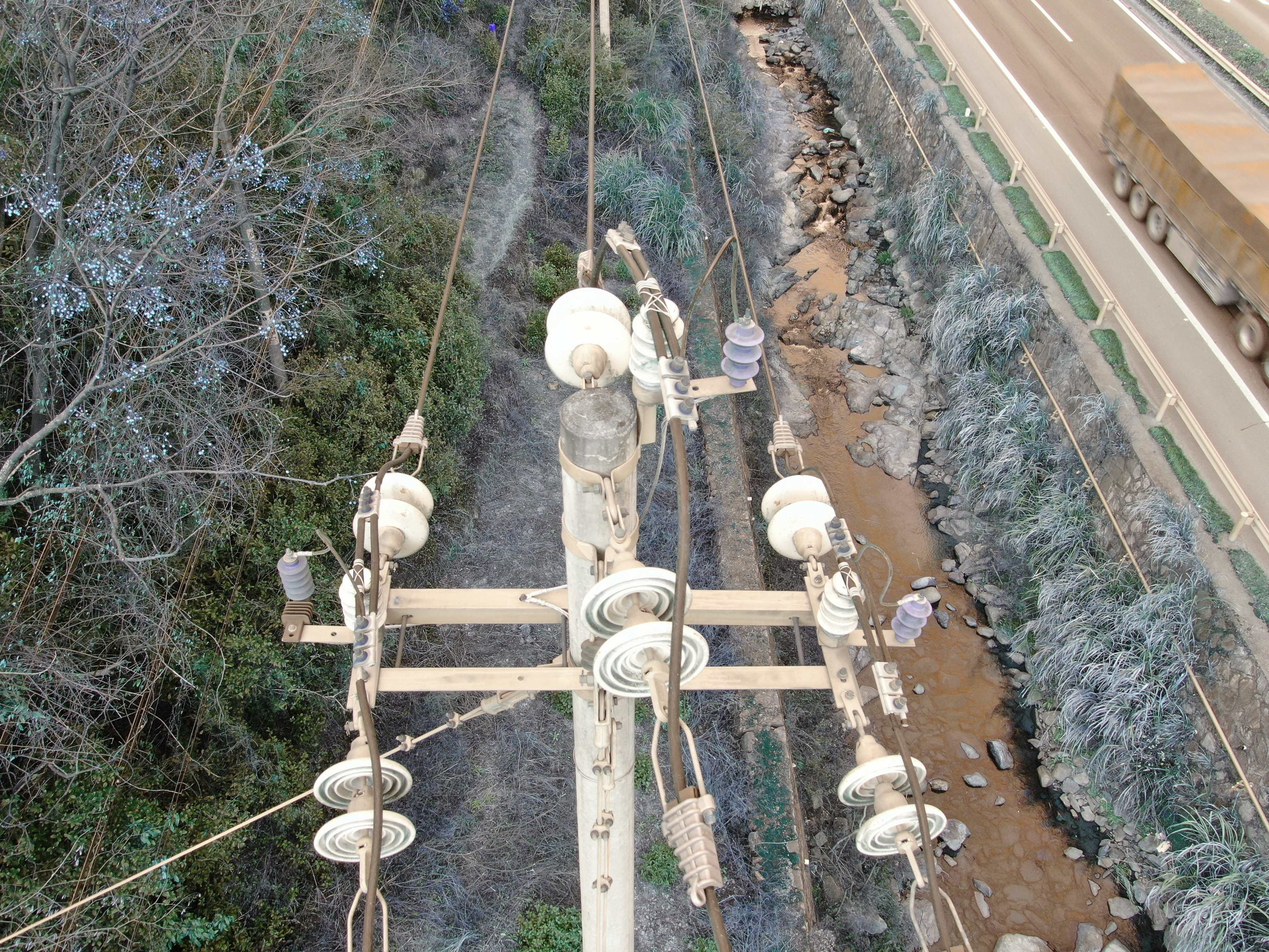severe_soiling_no_discharge_whole: (575, 545, 714, 705), (541, 281, 634, 390), (627, 293, 687, 406), (811, 568, 865, 649)
